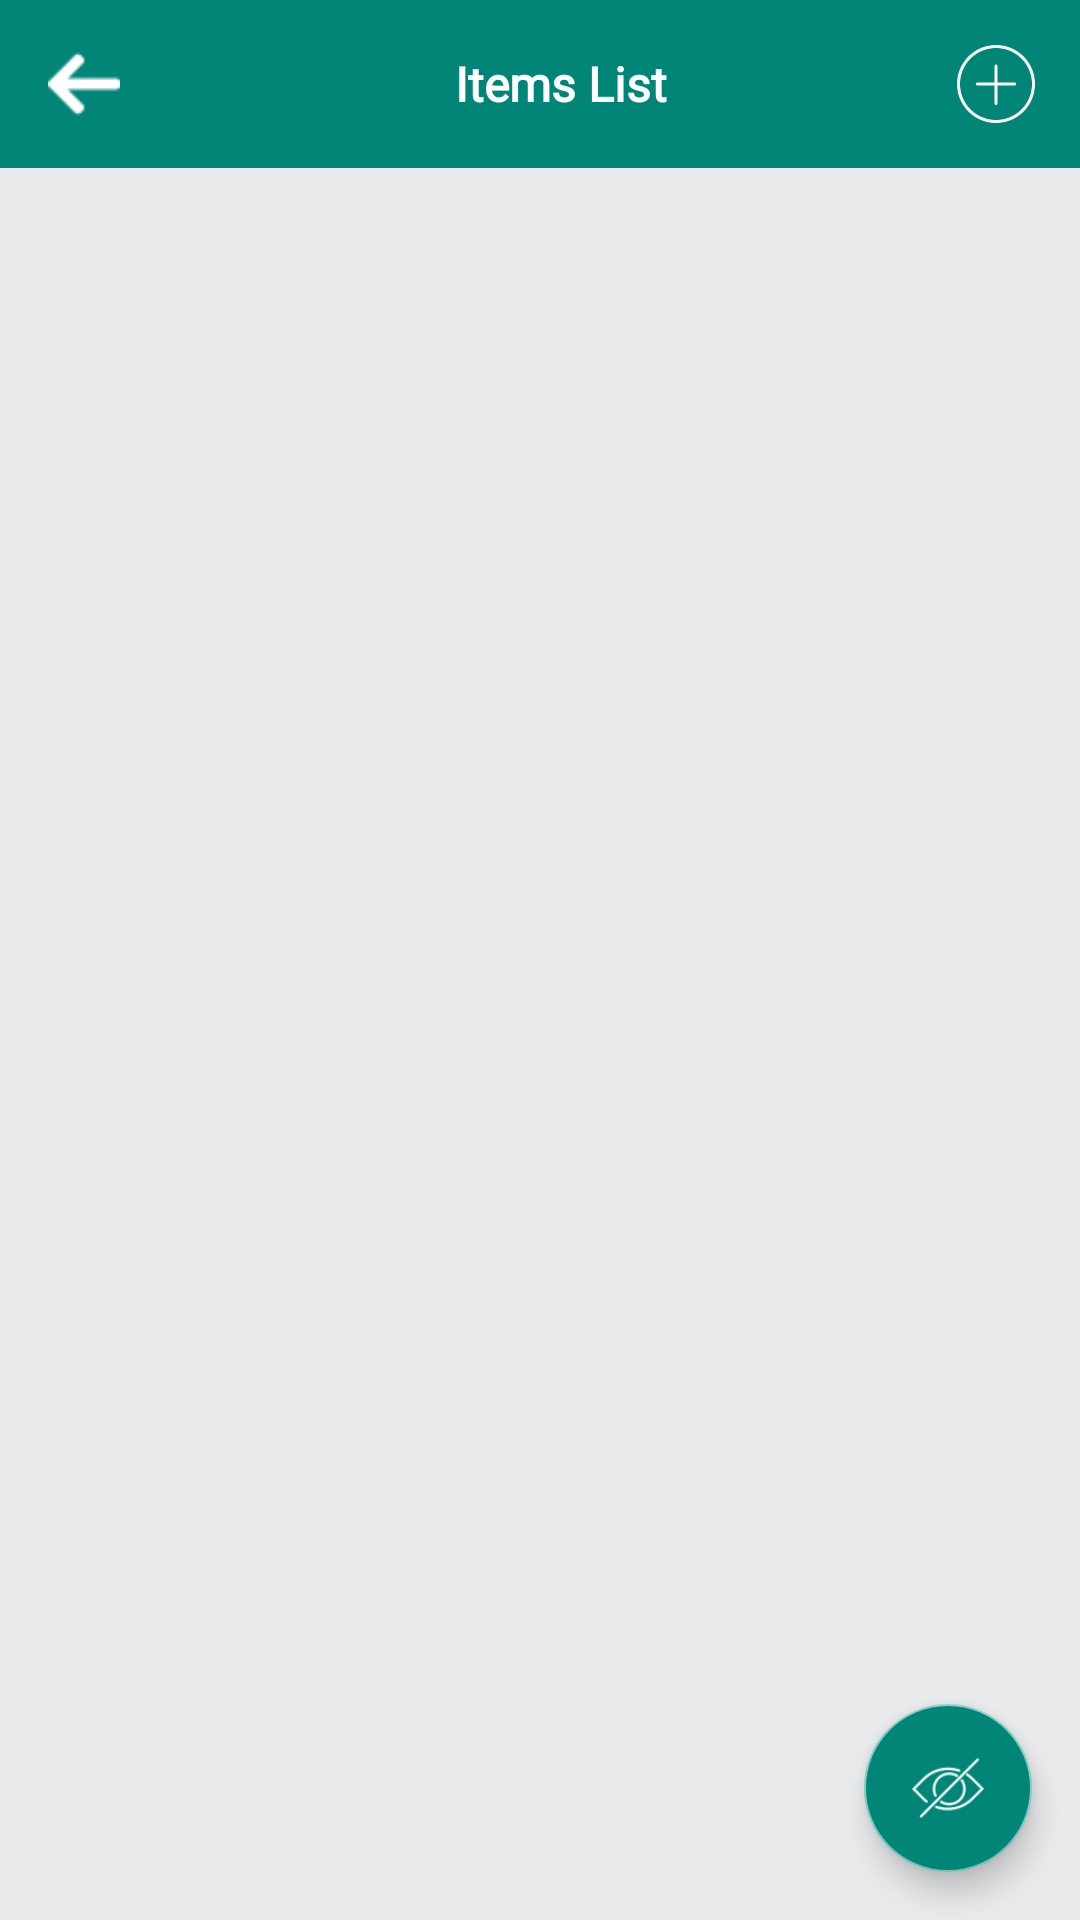

Screen size 1080 x 1920. Icon name, then its center in pixels as point (x, y):
add: point (996, 84)
back arrow: point (84, 84)
hide: point (948, 1788)
